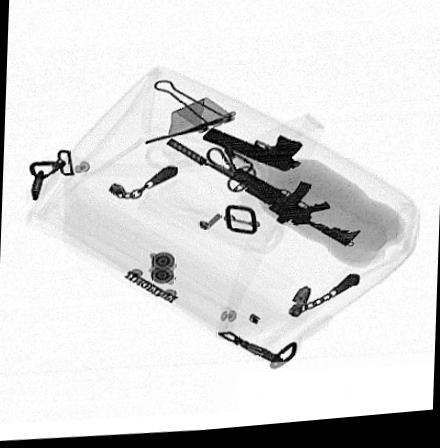Gun: (163, 140, 361, 253), (200, 128, 302, 177)
